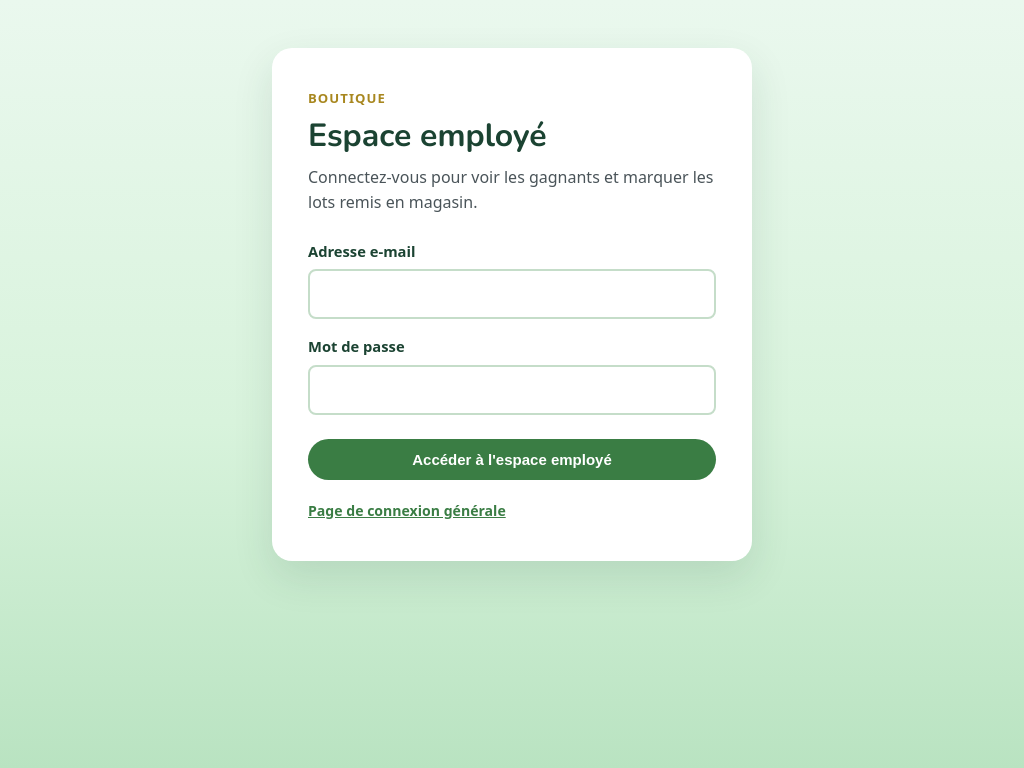
it: Employe › refuse un compte client
Type "jean@example.com" into the field labelled "Adresse e-mail" at (512, 294), box 308,269 -> 716,319
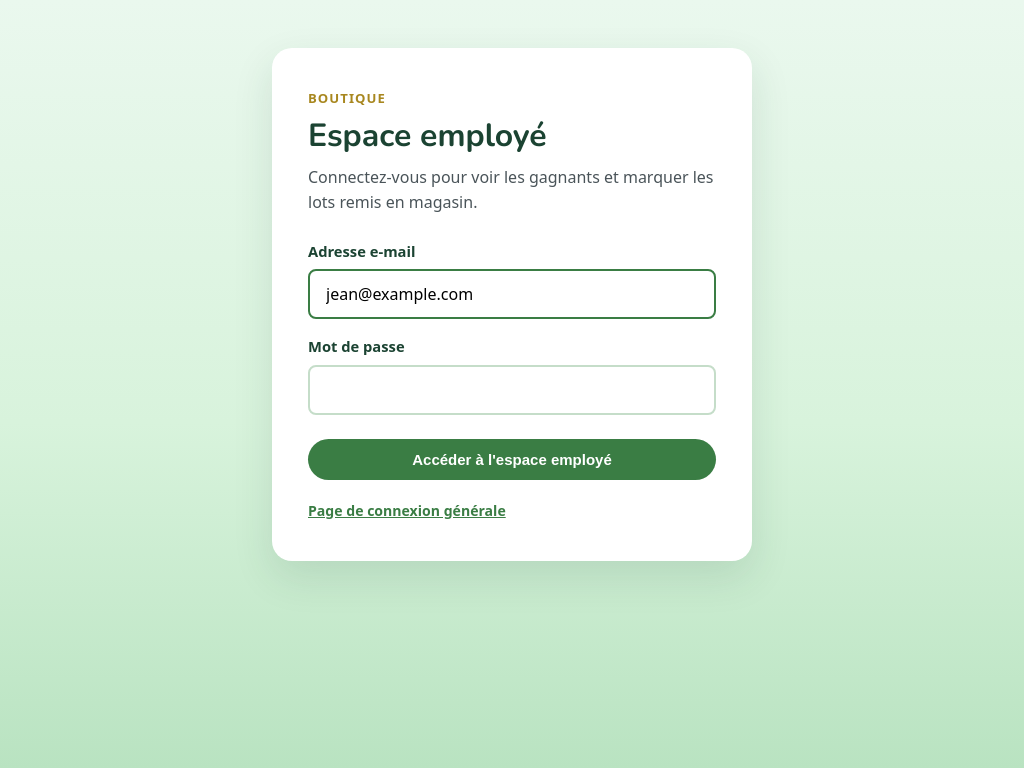
Type "Password1!" into the password field labelled "Mot de passe" at (512, 390), box 308,365 -> 716,415
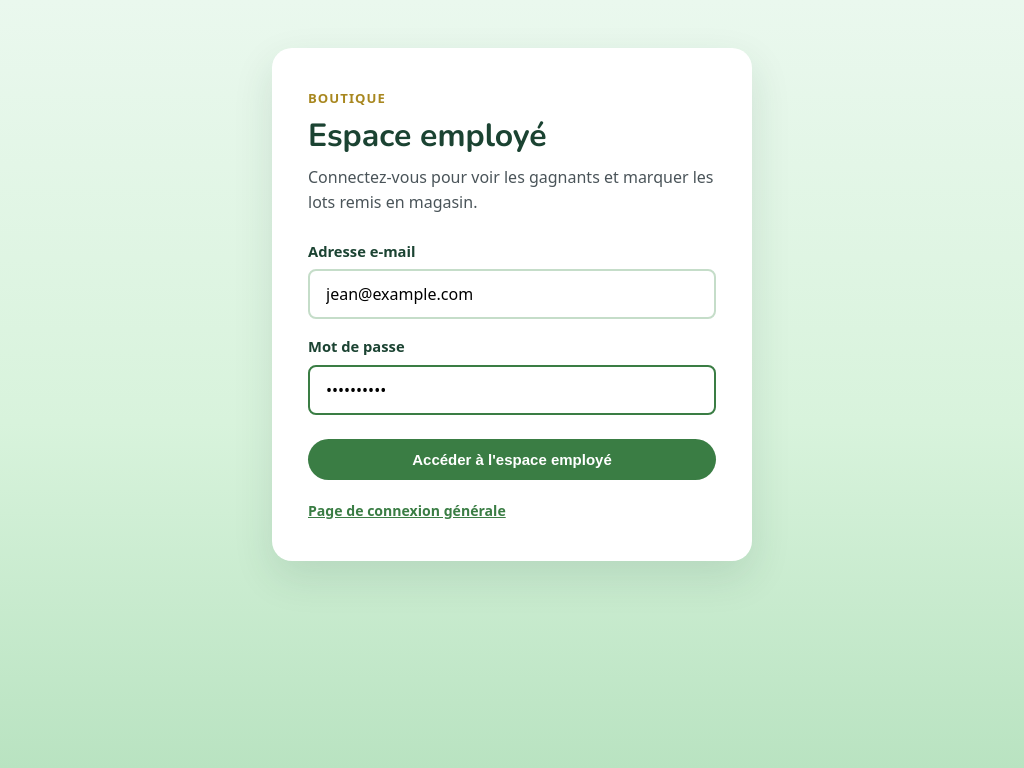
Click the button "Accéder à l'espace employé" at (512, 459), box 308,439 -> 716,480
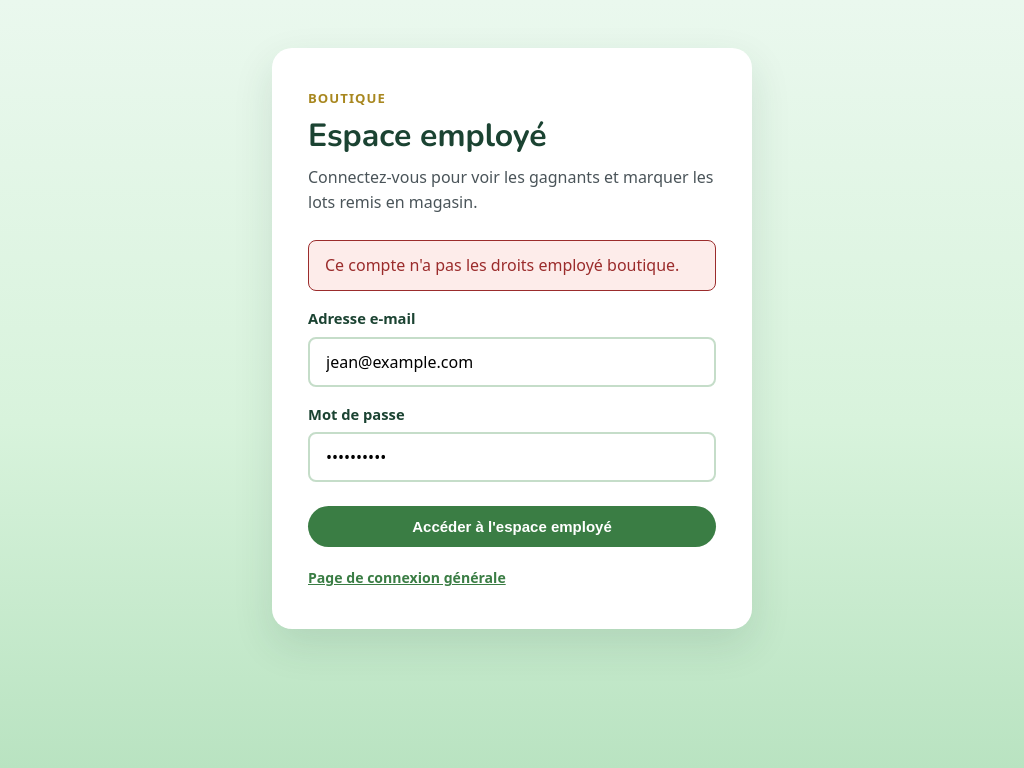
Result: the message shows "n'a pas les droits employé" at 325,254 -> 679,276
